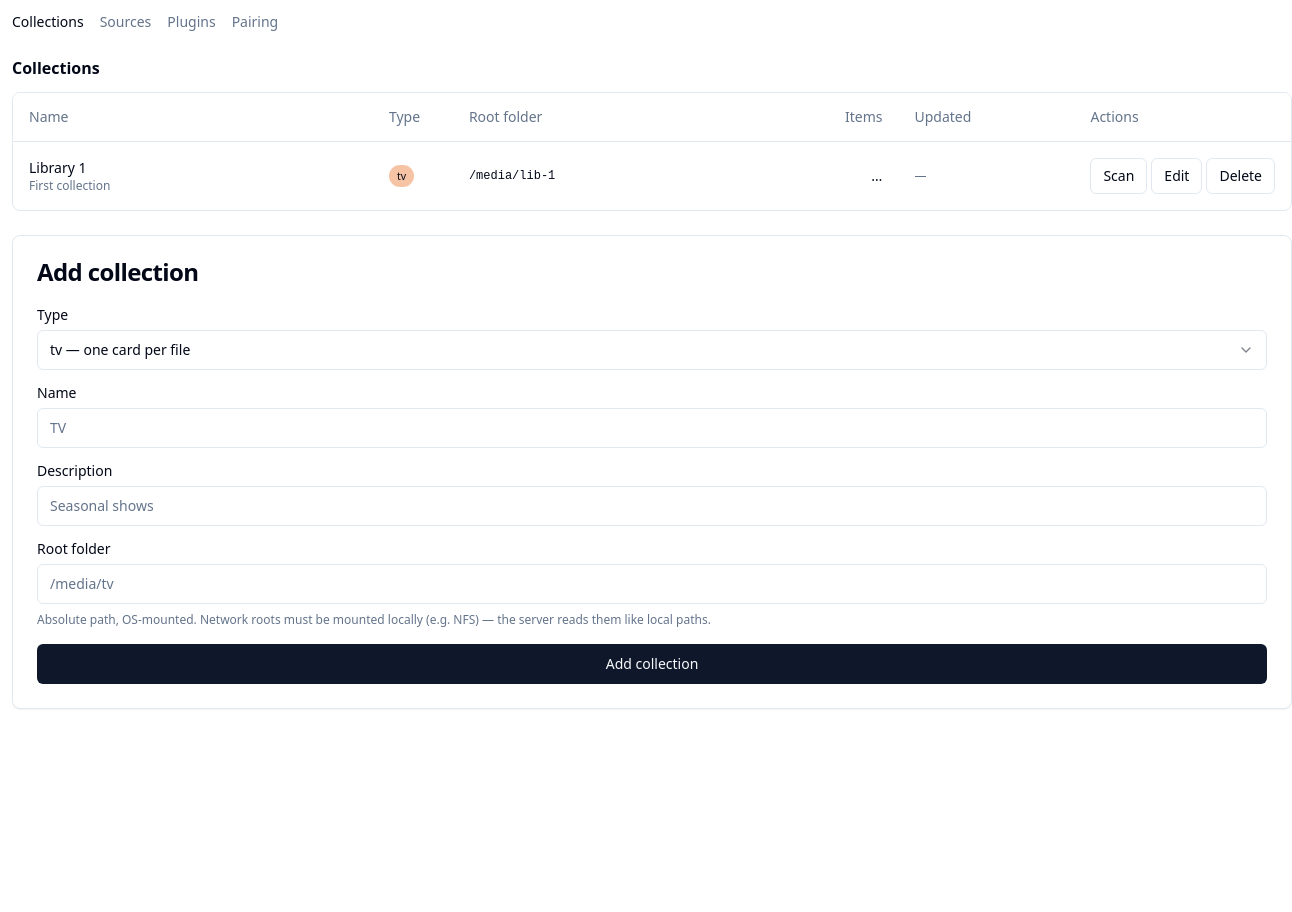
Test: Collections — admin panel (group 6) › delete error surfaces inline on the row and the collection stays
Expected: the text "/media/lib-1" is shown, [453,141,829,210]
Click the button "Delete".
click(1241, 176)  # box [1206,158,1275,194]
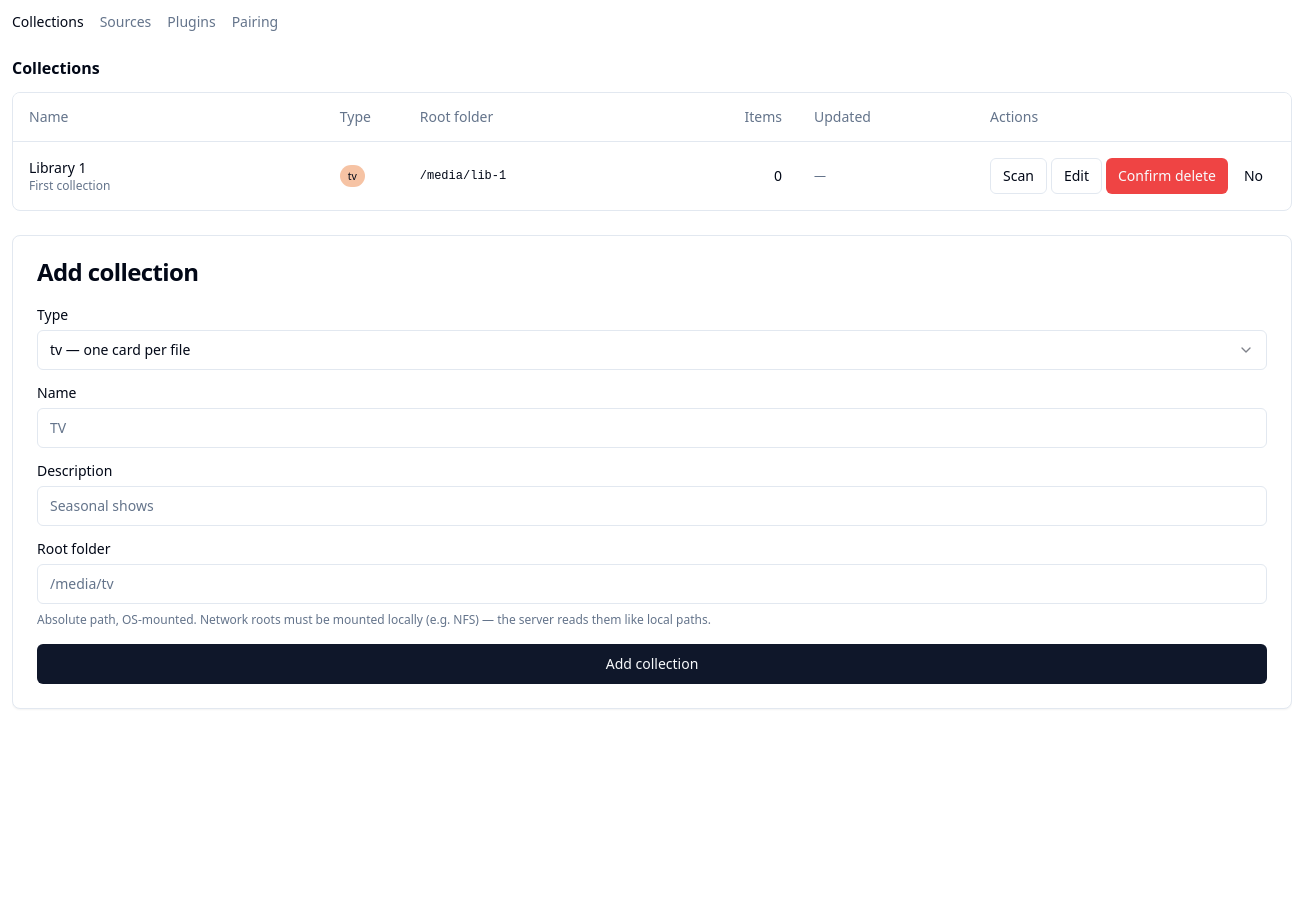
Click the button "Confirm delete".
click(1167, 176)  # box [1106,158,1228,194]
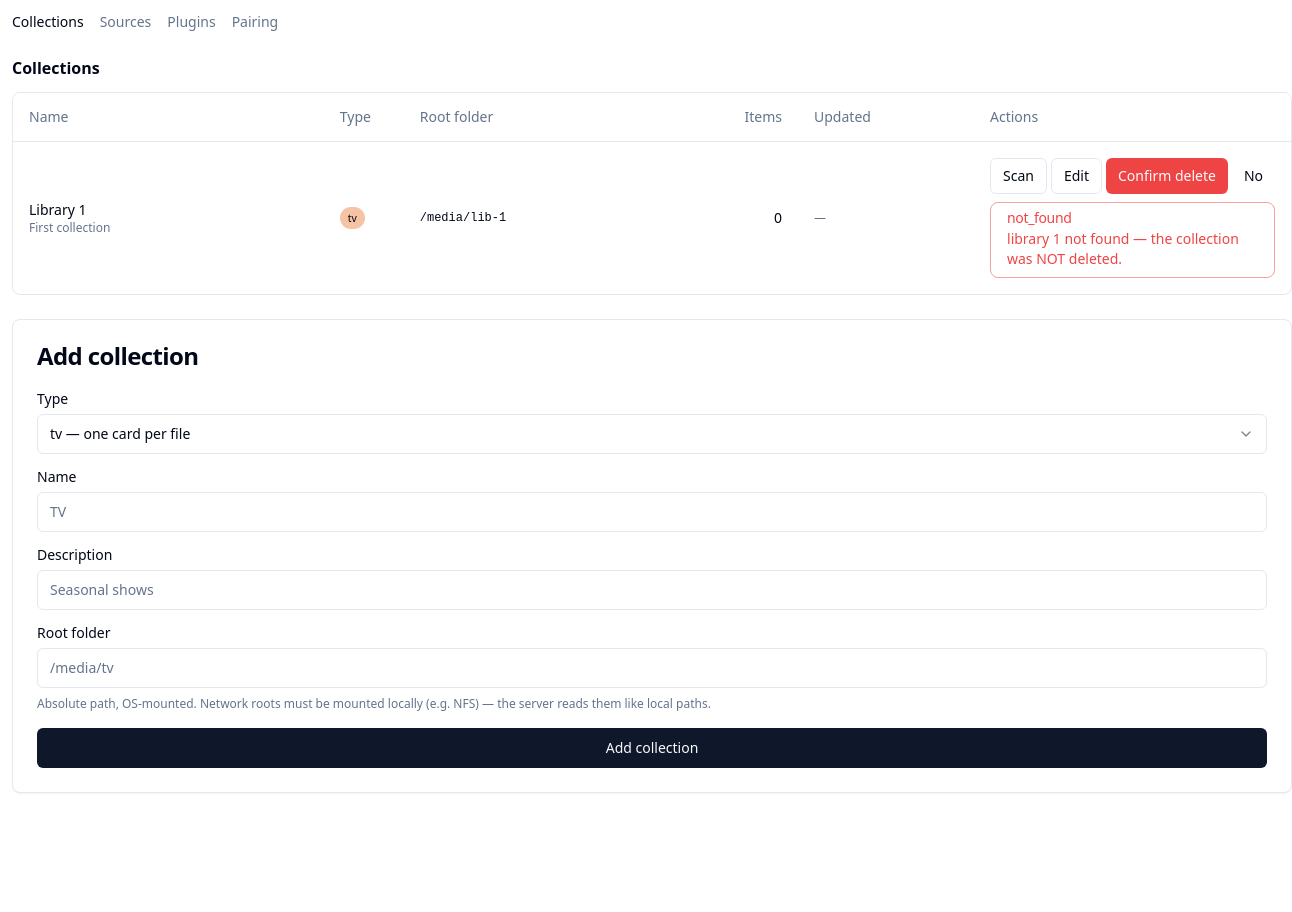
Expected: the row that starts with "Library 1" is shown, [13,141,1291,294]
Expected: the heading "not_found" is shown, [1007,208,1072,226]
Expected: the text "library 1 not found — the collection was NOT deleted." is shown, [1007,228,1258,268]
